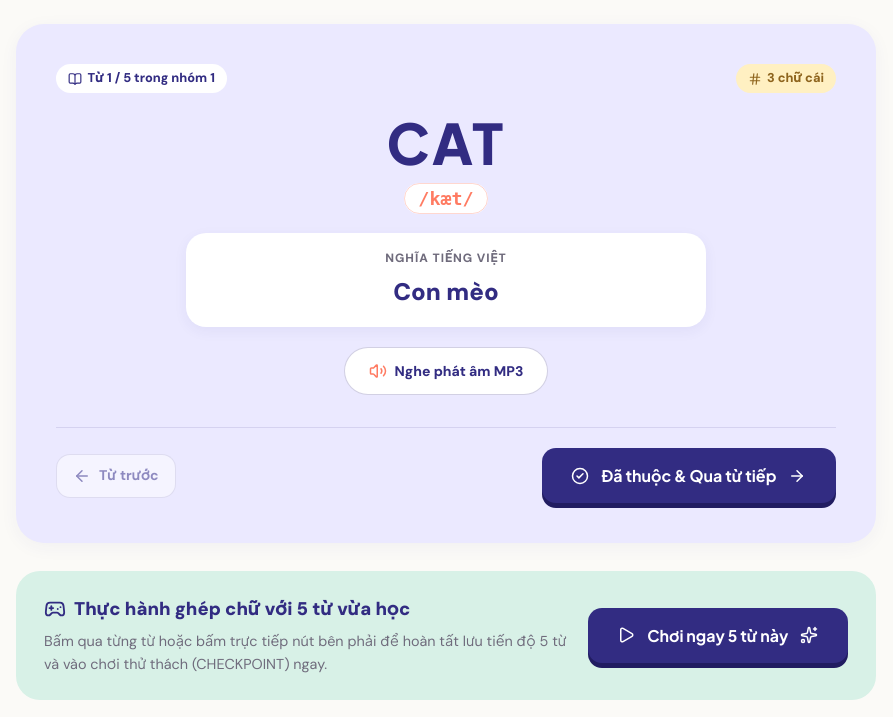
Test case: renders the 5-word batch flashcards and advances progress sequentially one by one
(page scrolled)
Expected: the heading "CAT" is shown, [386, 107, 506, 177]
Expected: the text "Con mèo" is shown, [393, 276, 499, 307]
Click the button "Đã thuộc & Qua từ tiếp" at (689, 476), box [542, 448, 836, 503]
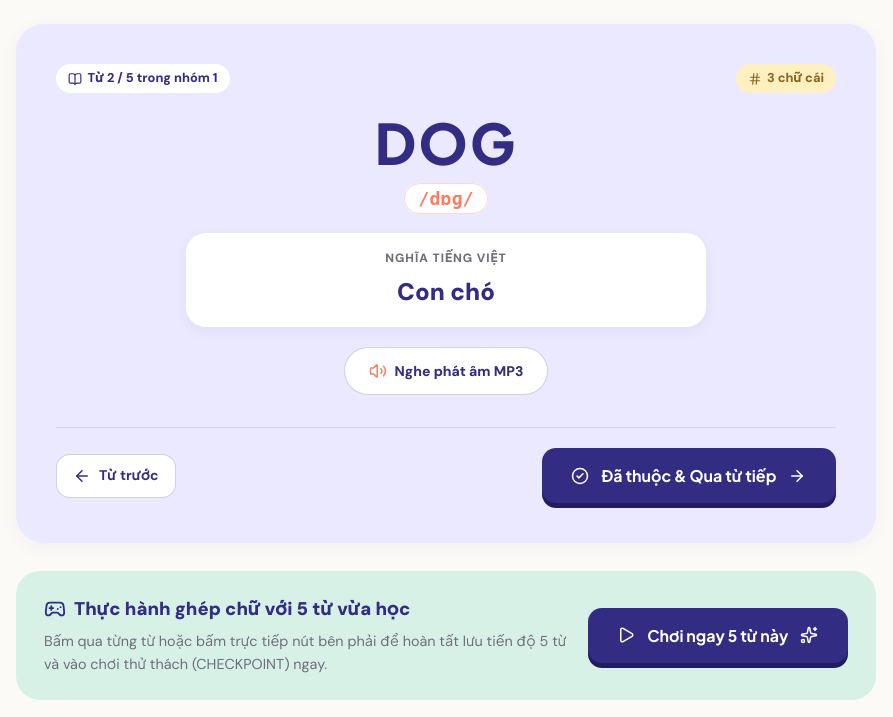
Expected: the heading "DOG" is shown, [375, 107, 517, 177]
Expected: the text "Con chó" is shown, [397, 276, 495, 307]
